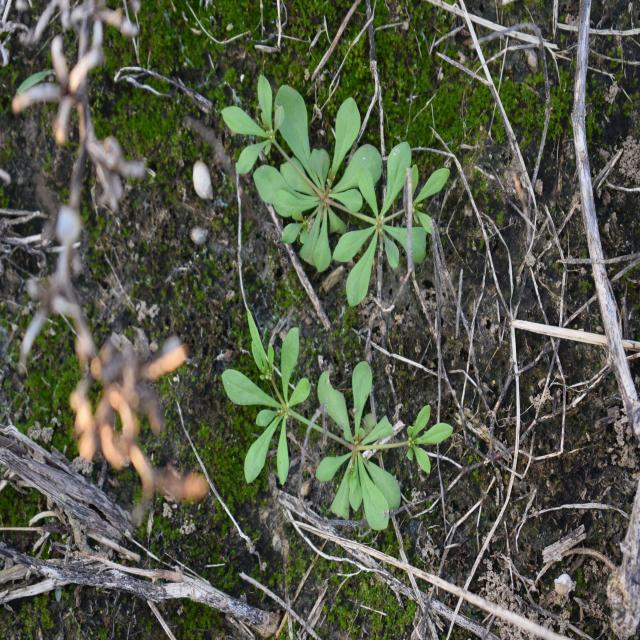Carpetweed: (220, 74, 451, 308), (220, 307, 454, 532)
